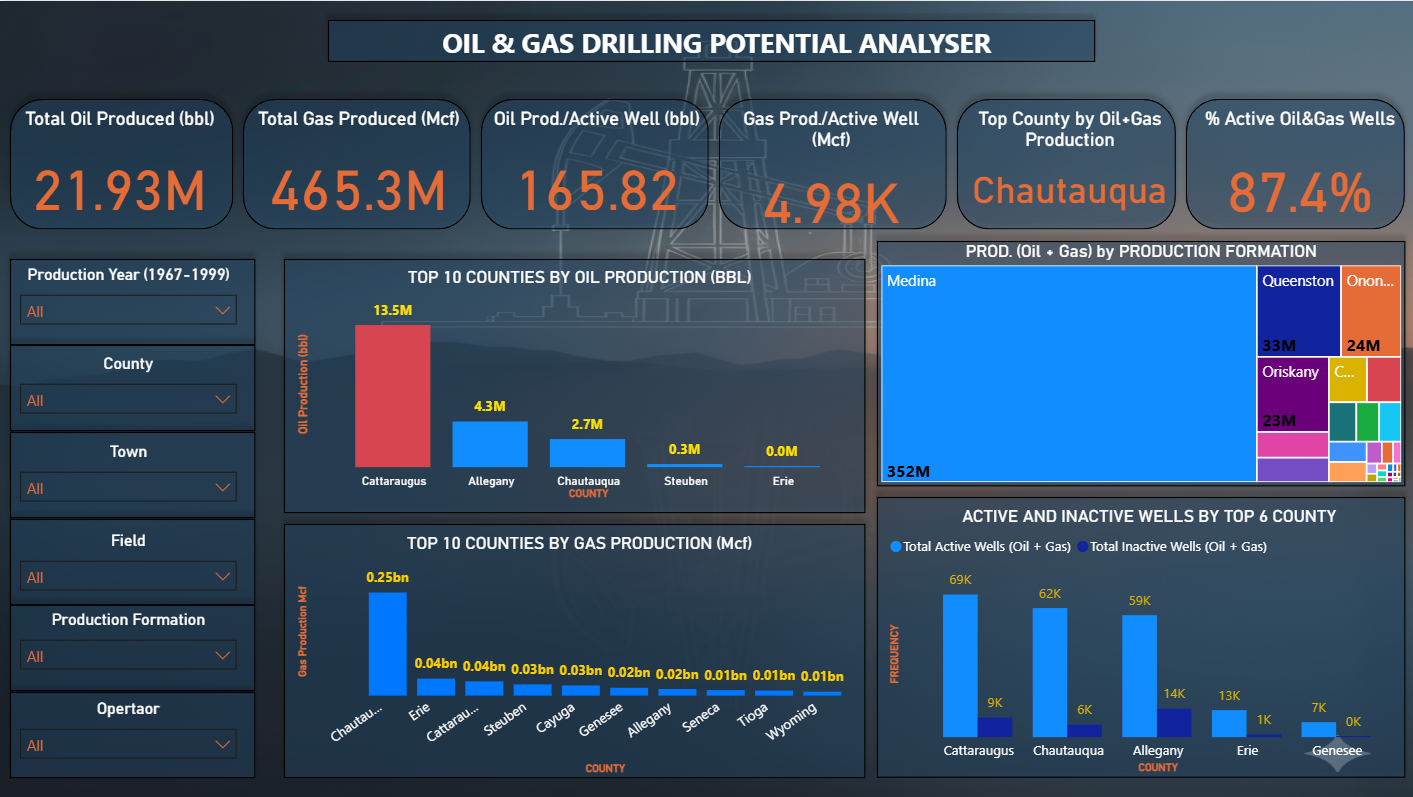

The dashboard page shown, as its layout file describes it:
{"tool":"powerbi","page":{"name":"PRODUCTION OVERVIEW","canvas":[1280,720],"ordinal":0},"visuals":[{"type":"shape","box":[288,8,712,56],"z":0},{"type":"textbox","box":[368,16,560,48],"z":1000},{"type":"shape","box":[0,80,220,136],"z":2000},{"type":"shape","box":[211.2,80,224,136],"z":3000},{"type":"shape","box":[426.4,80,224,136],"z":4000},{"type":"shape","box":[641.6,80,224,136],"z":5000},{"type":"shape","box":[856.8,80,216,136],"z":6000},{"type":"shape","box":[1064,80,216,136],"z":7000},{"type":"shape","box":[248,224,544,248],"z":8000},{"type":"shape","box":[784,440,496,272],"z":9000},{"type":"columnChart","title":"TOP 10 COUNTIES BY OIL PRODUCTION (BBL)","fields":{"Y":["Sum(oil and gas production.oil_produced_bbl)"],"Category":["oil and gas production.county"]},"box":[264,240,520,216],"z":10000},{"type":"card","title":"Total Oil Produced (bbl)","fields":{"Values":["Sum(oil and gas production.oil_produced_bbl)"]},"box":[8,96,200,120],"z":11000},{"type":"card","title":"Total Gas Produced (Mcf)","fields":{"Values":["Sum(oil and gas production.gas_produced_mcf)"]},"box":[224,96,200,120],"z":12000},{"type":"card","title":"Oil Prod./Active Well (bbl)","fields":{"Values":["oil and gas production.Average Oil Production per Active Well"]},"box":[440,96,200,120],"z":13000},{"type":"card","title":"Gas Prod./Active Well (Mcf)","fields":{"Values":["oil and gas production.Average Gas Production per Active Well"]},"box":[656,96,192,128],"z":14000},{"type":"card","title":"Top County by Oil+Gas Production","fields":{"Values":["oil and gas production.Top County Name"]},"box":[864,96,208,112],"z":15000},{"type":"card","title":"% Active Oil&Gas Wells","fields":{"Values":["oil and gas production.% Active Wells"]},"box":[1072,96,208,128],"z":16000},{"type":"shape","box":[0,224,240,96],"z":17000},{"type":"shape","box":[0,302.4,240,96],"z":18000},{"type":"shape","box":[0,380.8,240,96],"z":19000},{"type":"shape","box":[0,459.2,240,96],"z":20000},{"type":"shape","box":[0,537.6,240,96],"z":21000},{"type":"shape","box":[0,616,240,96],"z":22000},{"type":"slicer","title":"Production Year (1967-1999)","fields":{"Values":["oil and gas production.production_year"]},"box":[8,240,216,72],"z":23000},{"type":"slicer","title":"County","fields":{"Values":["oil and gas production.county"]},"box":[8,320,216,72],"z":24000},{"type":"slicer","title":"Town","fields":{"Values":["oil and gas production.town"]},"box":[8,400,216,72],"z":25000},{"type":"slicer","title":"Field","fields":{"Values":["oil and gas production.field"]},"box":[8,480,216,72],"z":26000},{"type":"slicer","title":"Production Formation","fields":{"Values":["oil and gas production.producing_formation"]},"box":[8,552,216,72],"z":27000},{"type":"slicer","title":"Opertaor","fields":{"Values":["oil and gas production.operator"]},"box":[8,632,216,72],"z":28000},{"type":"shape","box":[248,464,544,248],"z":29000},{"type":"clusteredColumnChart","title":"TOP 10 COUNTIES BY GAS PRODUCTION (Mcf)","fields":{"Category":["oil and gas production.county"],"Y":["Sum(oil and gas production.gas_produced_mcf)"]},"box":[264,480,520,224],"z":30000},{"type":"clusteredColumnChart","title":"ACTIVE AND INACTIVE WELLS BY TOP 6 COUNTY","fields":{"Category":["oil and gas production.county"],"Y":["oil and gas production.Total Active Wells (Oil + Gas)","oil and gas production.Total Inactive Wells (Oil + Gas)"]},"box":[800,456,480,248],"z":31000},{"type":"shape","box":[784,208,496,240],"z":32000},{"type":"treemap","title":"PROD. (Oil + Gas) by PRODUCTION FORMATION","fields":{"Group":["oil and gas production.producing_formation"],"Values":["oil and gas production.Total Production (Oil + Gas)"]},"box":[792,216,480,224],"z":33000}]}

Visuals, with their boxes in screenshot pixels (x1, y1, x2, y2), scaled from the page's 1280x720 canvas onto the 1413x797 screenshot:
shape: pyautogui.locateOnScreen(318, 9, 1104, 71)
textbox: pyautogui.locateOnScreen(406, 18, 1024, 71)
shape: pyautogui.locateOnScreen(0, 89, 243, 239)
shape: pyautogui.locateOnScreen(233, 89, 480, 239)
shape: pyautogui.locateOnScreen(471, 89, 718, 239)
shape: pyautogui.locateOnScreen(708, 89, 956, 239)
shape: pyautogui.locateOnScreen(946, 89, 1184, 239)
shape: pyautogui.locateOnScreen(1175, 89, 1412, 239)
shape: pyautogui.locateOnScreen(274, 248, 874, 522)
shape: pyautogui.locateOnScreen(865, 487, 1412, 788)
"TOP 10 COUNTIES BY OIL PRODUCTION (BBL)" columnChart: pyautogui.locateOnScreen(291, 266, 865, 505)
"Total Oil Produced (bbl)" card: pyautogui.locateOnScreen(9, 106, 230, 239)
"Total Gas Produced (Mcf)" card: pyautogui.locateOnScreen(247, 106, 468, 239)
"Oil Prod./Active Well (bbl)" card: pyautogui.locateOnScreen(486, 106, 706, 239)
"Gas Prod./Active Well (Mcf)" card: pyautogui.locateOnScreen(724, 106, 936, 248)
"Top County by Oil+Gas Production" card: pyautogui.locateOnScreen(954, 106, 1183, 230)
"% Active Oil&Gas Wells" card: pyautogui.locateOnScreen(1183, 106, 1412, 248)
shape: pyautogui.locateOnScreen(0, 248, 265, 354)
shape: pyautogui.locateOnScreen(0, 335, 265, 441)
shape: pyautogui.locateOnScreen(0, 422, 265, 528)
shape: pyautogui.locateOnScreen(0, 508, 265, 615)
shape: pyautogui.locateOnScreen(0, 595, 265, 701)
shape: pyautogui.locateOnScreen(0, 682, 265, 788)
"Production Year (1967-1999)" slicer: pyautogui.locateOnScreen(9, 266, 247, 345)
"County" slicer: pyautogui.locateOnScreen(9, 354, 247, 434)
"Town" slicer: pyautogui.locateOnScreen(9, 443, 247, 522)
"Field" slicer: pyautogui.locateOnScreen(9, 531, 247, 611)
"Production Formation" slicer: pyautogui.locateOnScreen(9, 611, 247, 691)
"Opertaor" slicer: pyautogui.locateOnScreen(9, 700, 247, 779)
shape: pyautogui.locateOnScreen(274, 514, 874, 788)
"TOP 10 COUNTIES BY GAS PRODUCTION (Mcf)" clusteredColumnChart: pyautogui.locateOnScreen(291, 531, 865, 779)
"ACTIVE AND INACTIVE WELLS BY TOP 6 COUNTY" clusteredColumnChart: pyautogui.locateOnScreen(883, 505, 1412, 779)
shape: pyautogui.locateOnScreen(865, 230, 1412, 496)
"PROD. (Oil + Gas) by PRODUCTION FORMATION" treemap: pyautogui.locateOnScreen(874, 239, 1404, 487)
